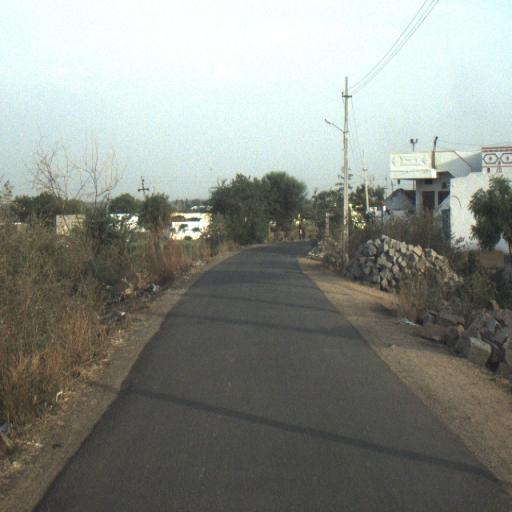street_light_0: (324, 117, 349, 145)
